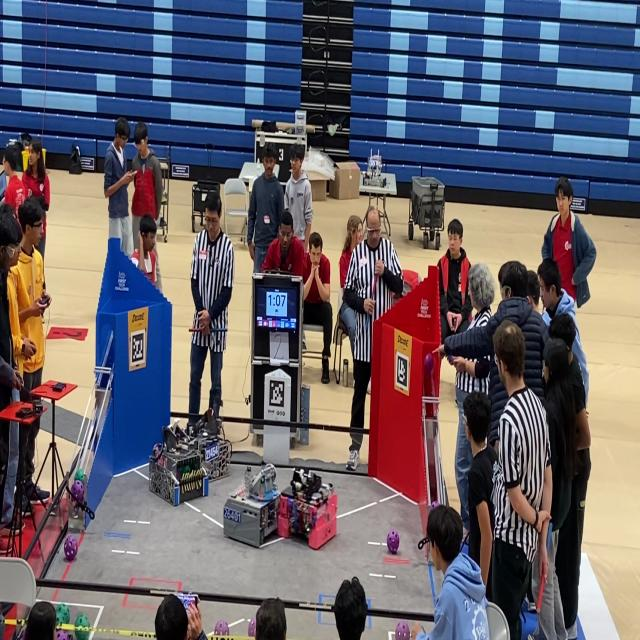artifact_green: (75, 613, 89, 639), (56, 604, 70, 624), (75, 469, 85, 483), (56, 630, 69, 639), (67, 632, 74, 639), (184, 466, 190, 473)
artifact_purple: (64, 535, 77, 561), (71, 480, 84, 503), (387, 530, 399, 554), (395, 621, 410, 639), (214, 620, 229, 636), (424, 354, 433, 372), (248, 618, 256, 638), (57, 630, 69, 639), (431, 501, 439, 509)
